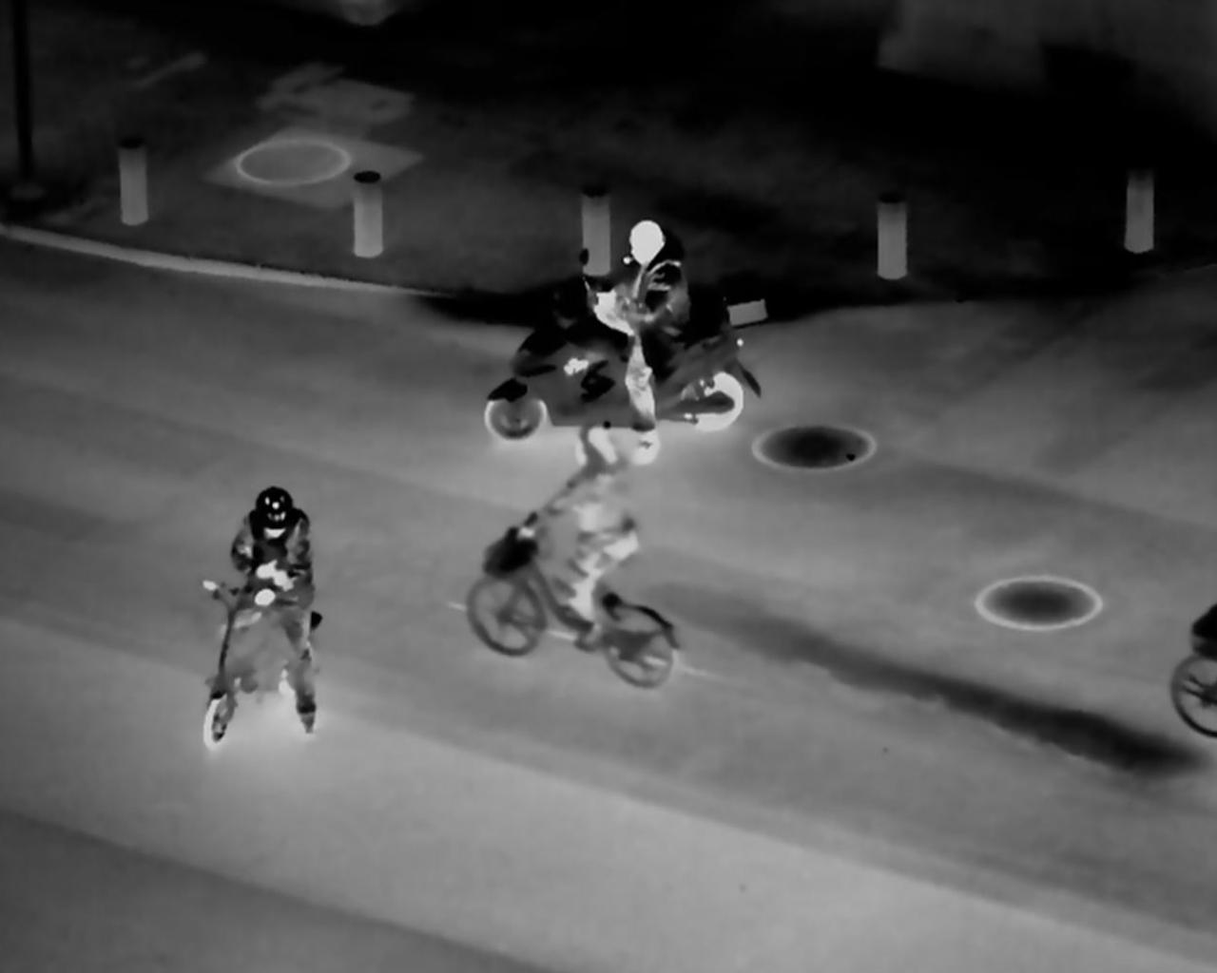person: (212, 475, 336, 735), (597, 212, 699, 469), (534, 426, 641, 635)
